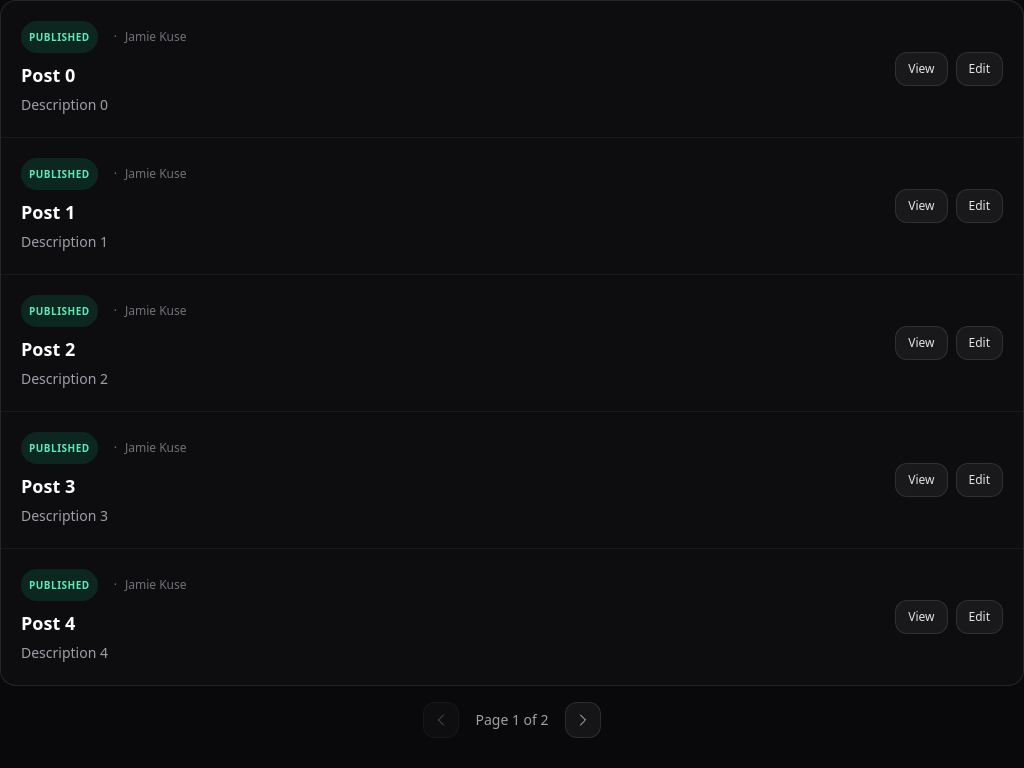
Test case: AdminPostsList › paginates only past 5 posts
The width and height of the screenshot is (1024, 768).
Check: the heading "Post 0" is shown, box [21,63,75,87]
Check: the heading "Post 4" is shown, box [21,611,75,635]
What coordinates should you click on to do the following:
click the button named "Next page"
I would click on:
 (582, 720)
Its box is [564,702,600,738].
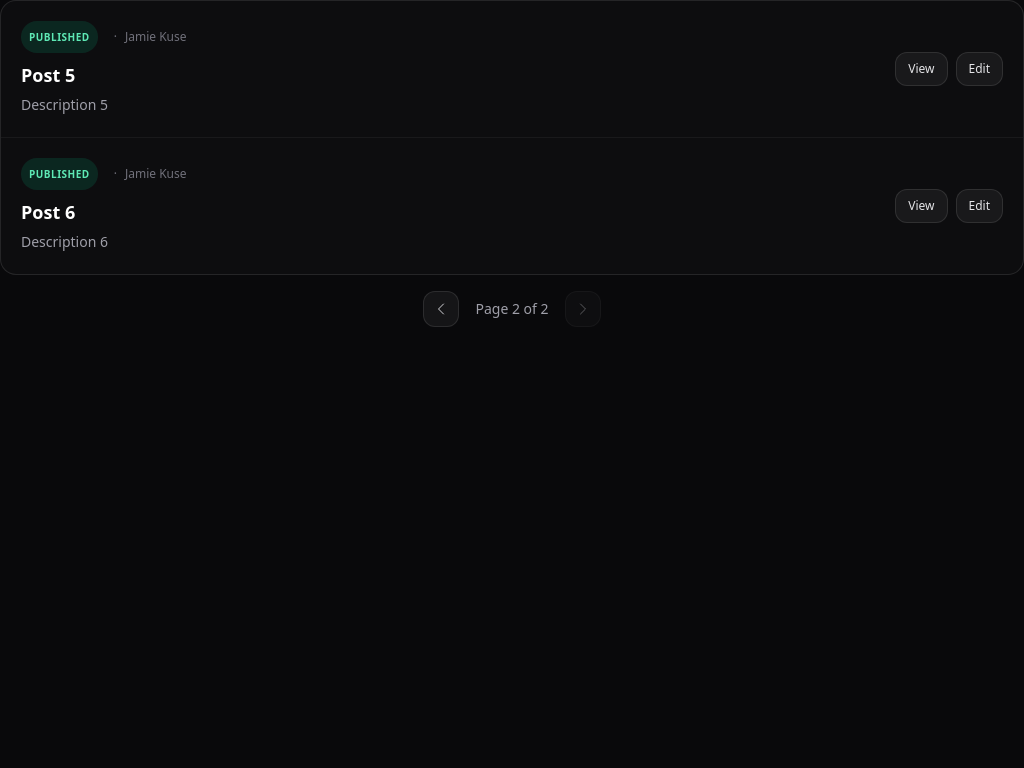
Check: the heading "Post 5" is shown, box [21,63,75,87]
Check: the heading "Post 6" is shown, box [21,200,75,224]
Check: the heading "Post 0" is gone
